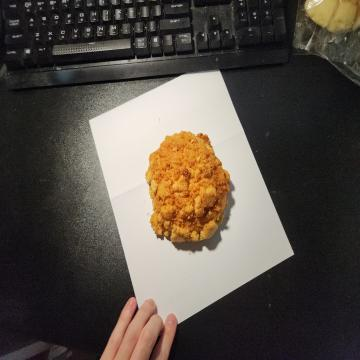soboru_bread: (144, 128, 229, 247)
